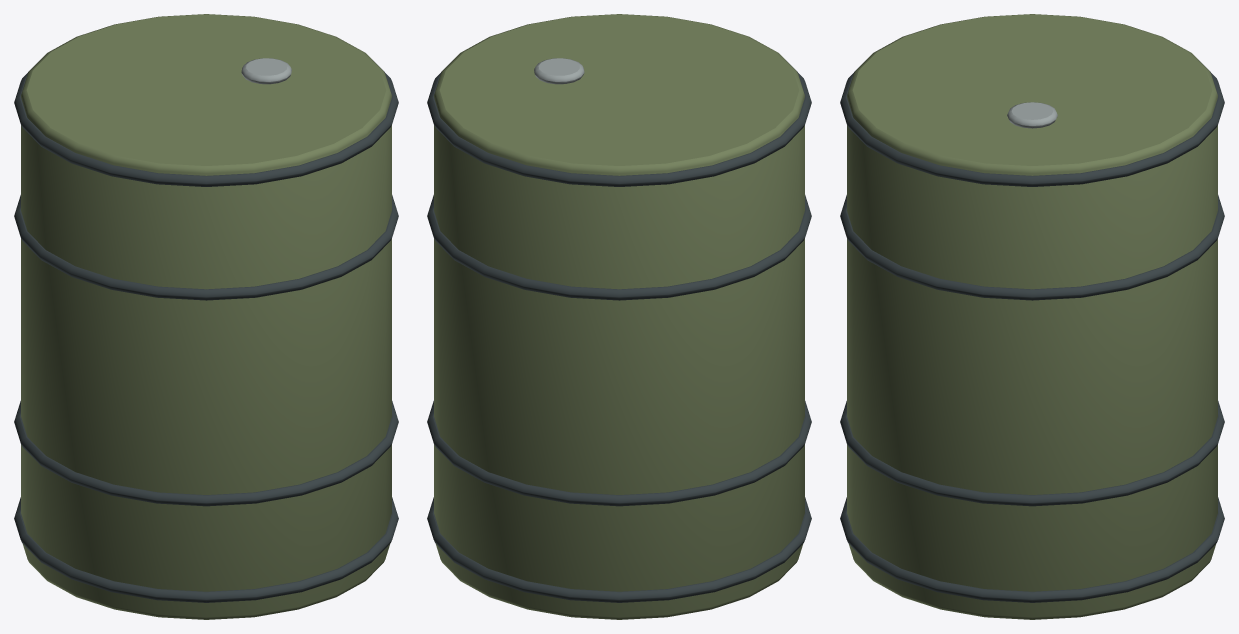
The model's file is fuel_drum.glb.
The picture shows the model from 3 angles, left to right: view 1: azimuth 30°, elevation 25°; view 2: azimuth 150°, elevation 25°; view 3: azimuth 270°, elevation 25°; orthographic projection.
Visible parts, largest first — view 1: fuel_drum; view 2: fuel_drum; view 3: fuel_drum.
Part boxes in pixels (<box>): fuel_drum: <box>14,14,398,619</box>; fuel_drum: <box>427,14,811,619</box>; fuel_drum: <box>840,14,1224,619</box>.
Size of the model in its own units: 0.83 by 1.1 by 0.83.
